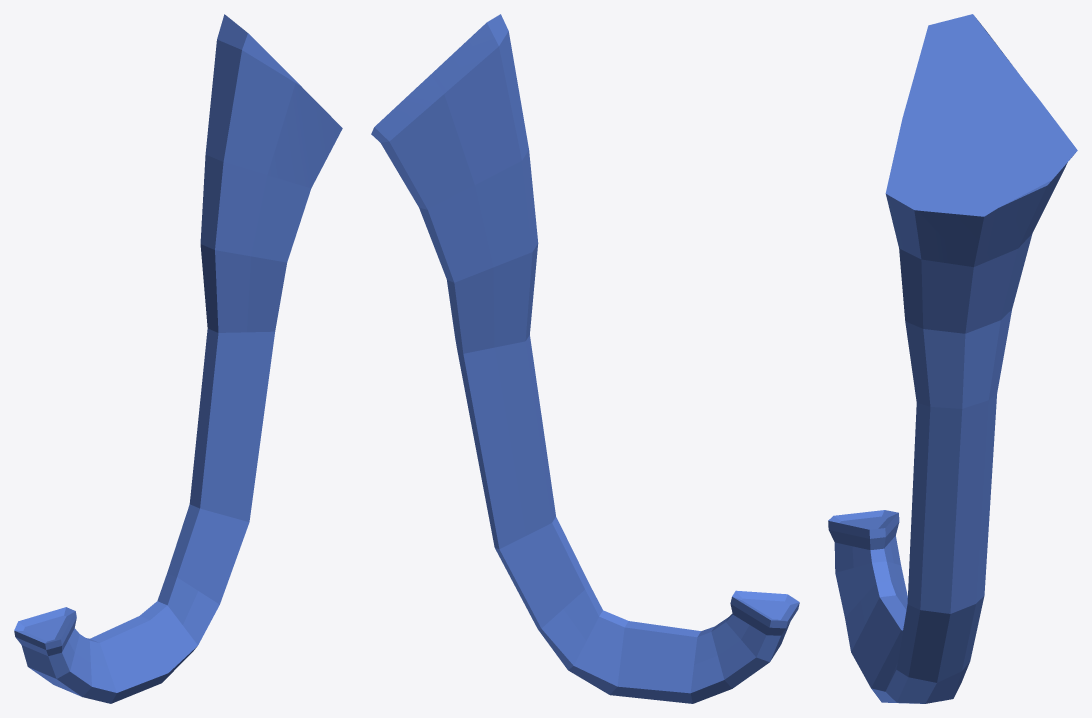
File: elephant2.fbx
3 views of the same model, side by side, from view 1: azimuth 30°, elevation 25°; view 2: azimuth 150°, elevation 25°; view 3: azimuth 270°, elevation 25° (orthographic). The views are drawn at different scales.
Visible parts, largest first — view 1: 布尔_15; view 2: 布尔_15; view 3: 布尔_15.
Boxes of the visible parts, left/top/right/bottom form: 布尔_15: left=14, top=14, right=342, bottom=703; 布尔_15: left=371, top=14, right=799, bottom=703; 布尔_15: left=828, top=14, right=1077, bottom=703.
Bounding box in the file's own units: 59.37 × 103 × 31.2.
